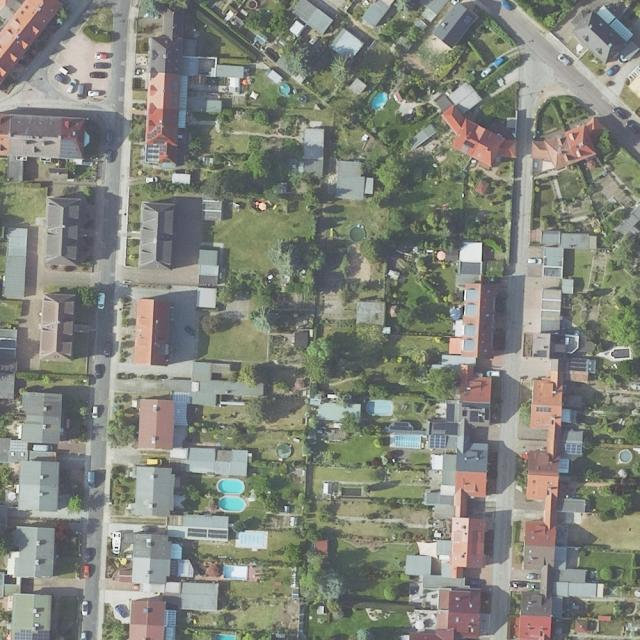PV: (59, 140, 81, 159), (14, 629, 50, 640), (559, 443, 582, 455), (429, 434, 447, 448), (147, 127, 161, 139), (153, 137, 168, 143), (160, 146, 166, 155)
ST: (536, 407, 551, 412)
